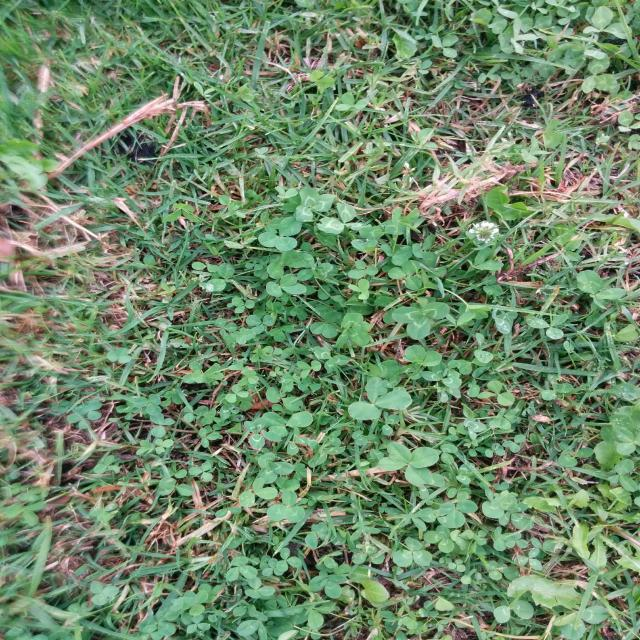Four Leaf Clover: (378, 442, 439, 487)
